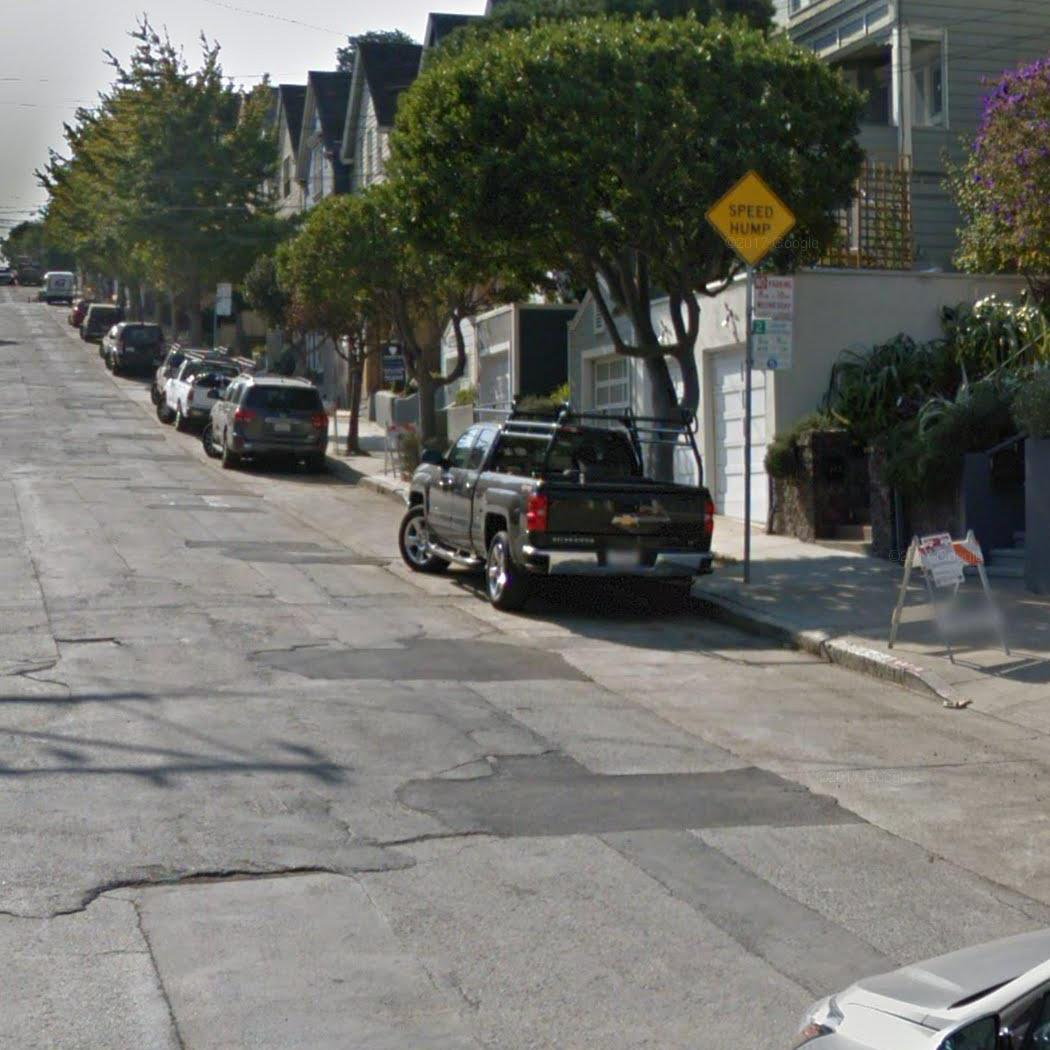2 Hour Parking: (748, 317, 796, 372), (215, 298, 231, 316)
No Parking: (751, 273, 797, 319), (215, 282, 233, 298)
